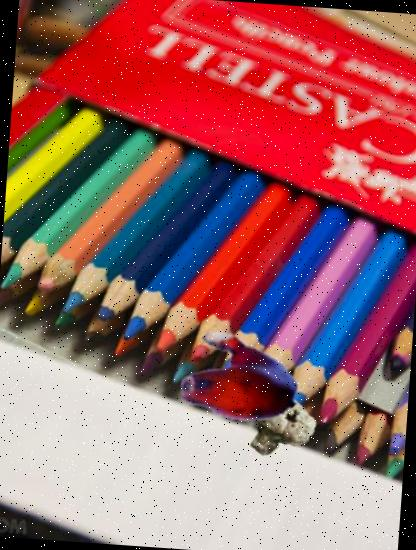Banana: (176, 323, 298, 446)
Cauliflower: (240, 390, 315, 464)
